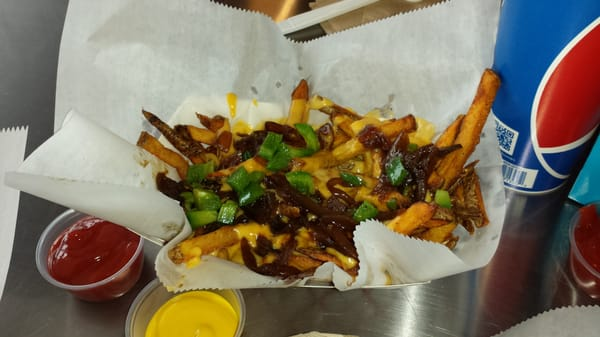sushi: (34, 207, 145, 303), (144, 288, 246, 336)
